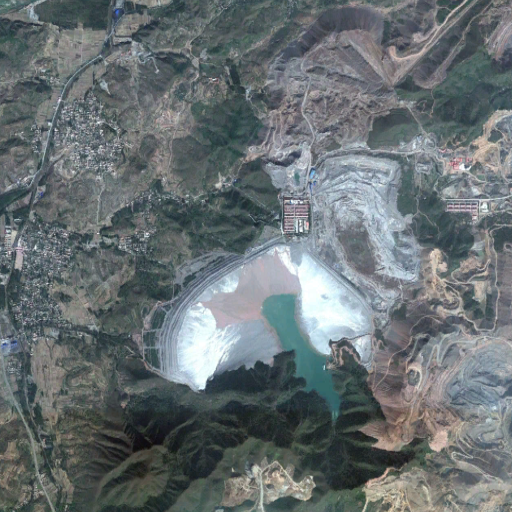tp: (159, 240, 375, 428)
